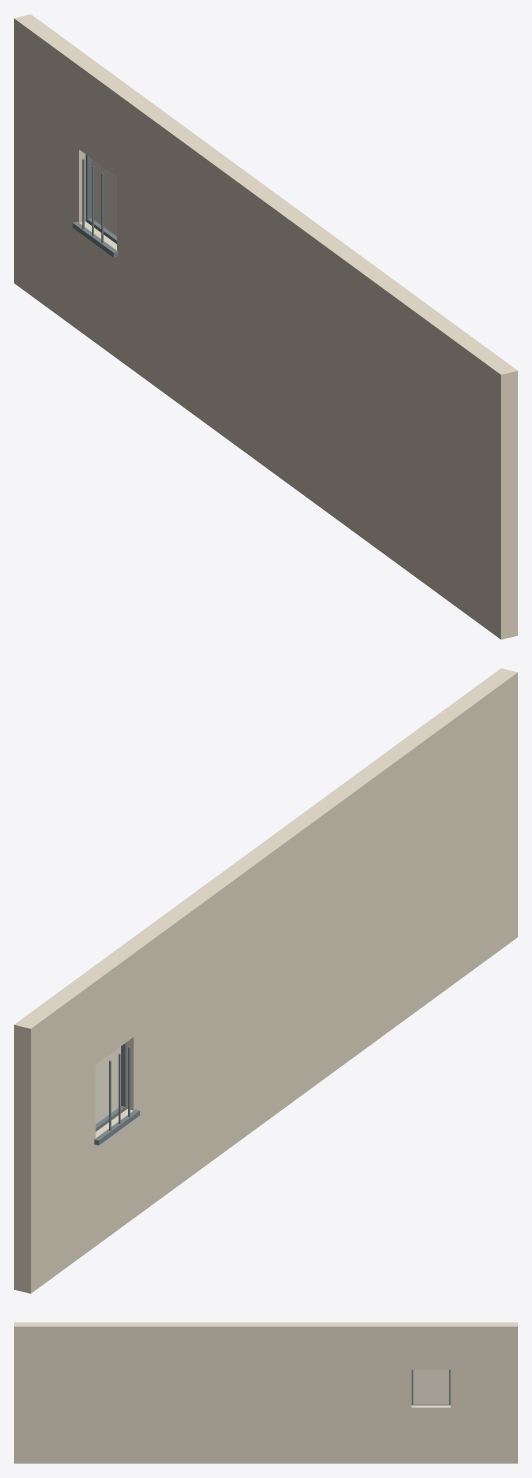
Rendered from tb_danchi_module_end_l_01.fbx.
3 renders of one model, top to bottom at view 1: azimuth 30°, elevation 25°; view 2: azimuth 150°, elevation 25°; view 3: azimuth 270°, elevation 25°, orthographic. The views are drawn at different scales.
Parts seen in each view (by area): view 1: tb_danchi_module_end_l_01; view 2: tb_danchi_module_end_l_01; view 3: tb_danchi_module_end_l_01.
Part boxes in pixels (box(x1,y1,x2,y2)): tb_danchi_module_end_l_01: box(14, 14, 517, 639); tb_danchi_module_end_l_01: box(14, 668, 517, 1293); tb_danchi_module_end_l_01: box(14, 1322, 517, 1463).
Size of what is drawn, in the model's own units: 0.24 by 2.7 by 9.
Materials: 2 (2 with a texture image).
